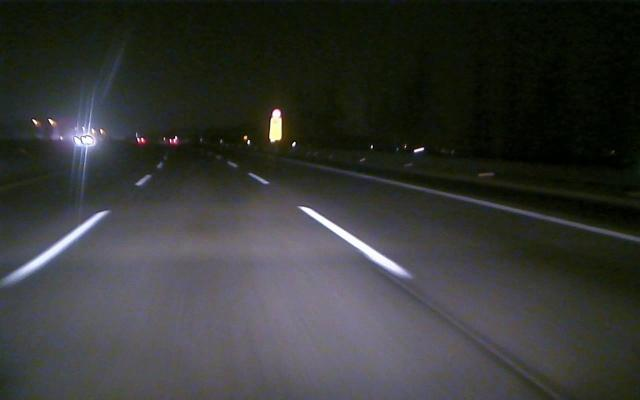lane: (347, 172, 638, 244), (254, 176, 414, 279), (1, 177, 148, 288)
